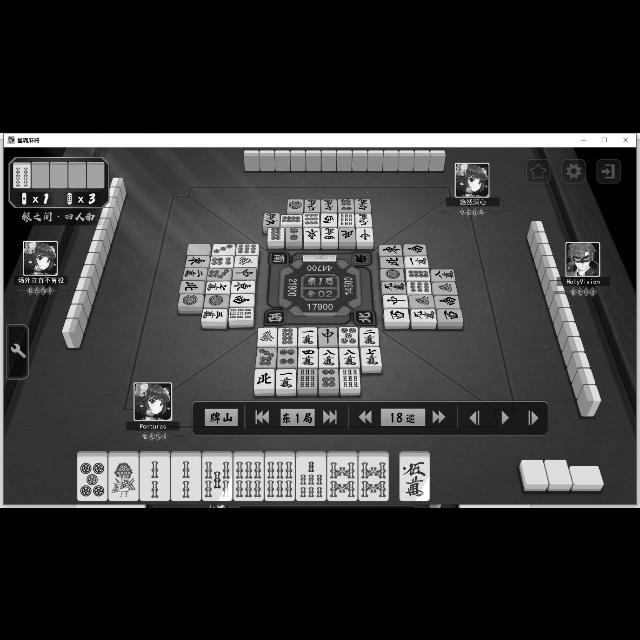1m: (298, 326, 318, 346), (276, 368, 296, 388), (405, 256, 429, 266)
1p: (204, 293, 230, 307), (178, 292, 202, 306), (380, 268, 404, 280), (287, 198, 303, 212)
1s: (108, 456, 138, 499)
2m: (359, 328, 378, 344), (182, 267, 206, 279)
2p: (284, 227, 302, 241)
2s: (140, 456, 170, 500), (172, 456, 200, 500)
3m: (202, 308, 228, 322)
3p: (211, 242, 235, 254)
4m: (298, 347, 318, 367), (321, 227, 337, 241)
4p: (278, 348, 296, 367)
4s: (14, 165, 31, 188)
5m: (399, 456, 429, 499), (263, 212, 279, 226)
5p: (76, 456, 108, 500), (338, 326, 358, 346)
5s: (202, 456, 232, 500)
6m: (354, 197, 372, 211)
6p: (318, 368, 338, 388), (338, 197, 354, 211), (210, 256, 232, 266)
6s: (264, 456, 296, 500), (233, 456, 263, 499)
7m: (362, 346, 382, 364), (204, 281, 230, 293), (322, 198, 338, 212), (322, 198, 336, 212)
7p: (256, 347, 276, 367), (207, 266, 231, 280)
7s: (296, 456, 326, 500)
8m: (339, 348, 359, 367), (320, 348, 338, 367), (430, 268, 456, 280)
8p: (278, 326, 296, 346), (406, 268, 429, 280), (268, 226, 284, 240), (280, 214, 302, 224)
8s: (327, 456, 357, 500), (358, 456, 388, 500)
9m: (382, 279, 406, 293), (410, 310, 436, 322), (304, 198, 320, 212), (356, 212, 372, 225)
9p: (408, 280, 432, 294), (236, 242, 258, 254), (303, 212, 319, 226)
9s: (340, 367, 360, 387), (228, 306, 254, 320), (298, 368, 316, 388), (338, 212, 354, 226)
chun: (318, 326, 338, 346), (383, 294, 409, 306), (232, 267, 256, 279), (356, 227, 374, 241)
haku: (522, 458, 548, 484), (546, 459, 572, 483), (570, 466, 604, 484), (186, 242, 210, 254)
hatsu: (258, 326, 276, 346), (410, 294, 434, 308), (234, 254, 258, 266), (432, 282, 458, 292)
nan: (434, 294, 461, 308), (230, 292, 254, 306), (403, 243, 427, 255)
pe: (254, 368, 274, 388), (178, 280, 204, 292), (381, 255, 404, 267), (339, 228, 355, 240)
sha: (384, 308, 411, 322), (437, 308, 463, 322), (319, 212, 336, 226)
tou: (230, 280, 256, 292), (185, 255, 209, 267), (379, 243, 403, 254), (304, 227, 320, 240)
